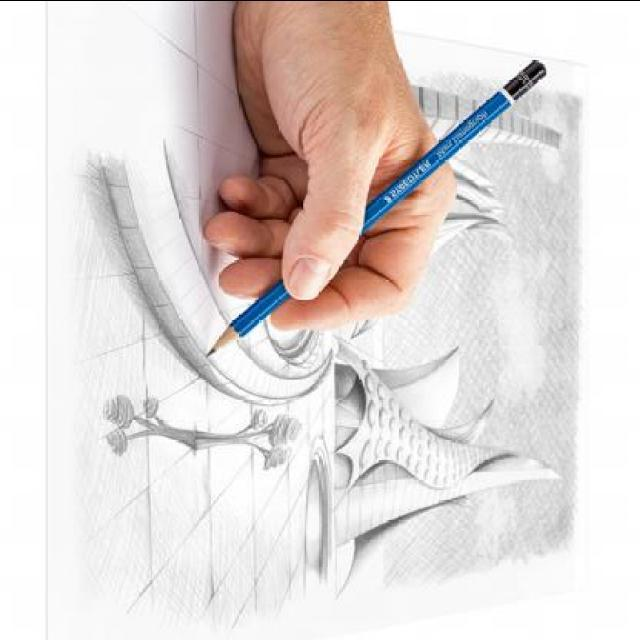pencil: (204, 315, 258, 367)
